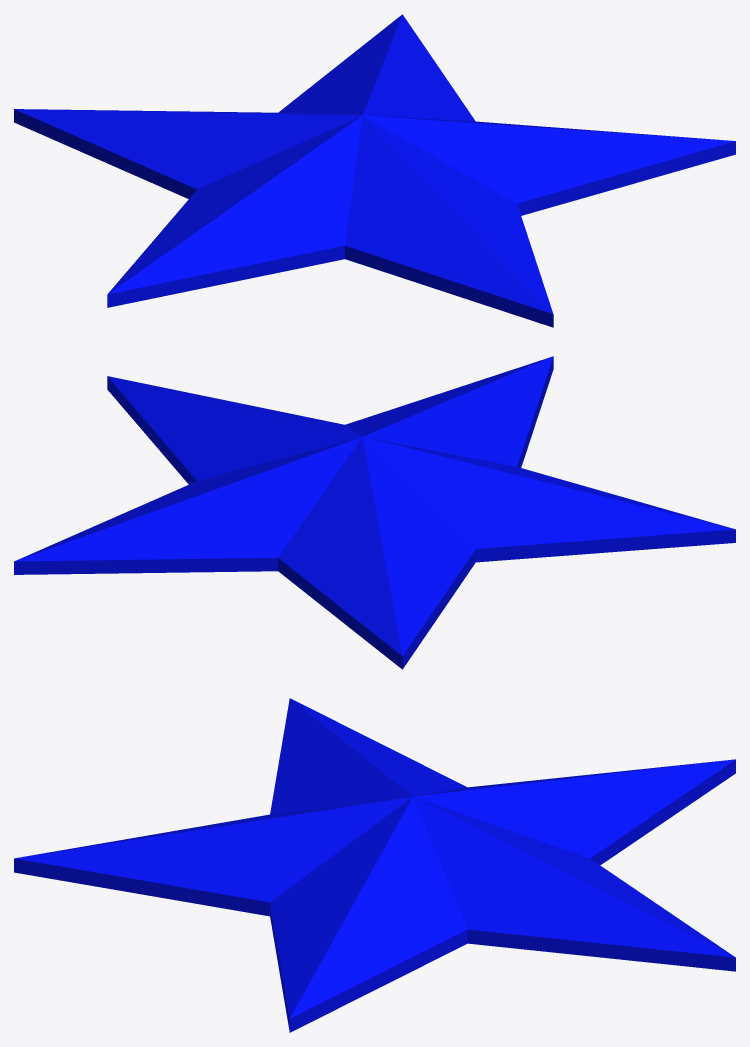
Rendered from star_blue.glb.
3 renders of one model, top to bottom at view 1: azimuth 30°, elevation 25°; view 2: azimuth 150°, elevation 25°; view 3: azimuth 270°, elevation 25°, orthographic. The views are drawn at different scales.
Visible parts, largest first — view 1: Star; view 2: Star; view 3: Star.
Part boxes in pixels (x1,y1,x2,y2): Star: (14,14,735,327); Star: (14,356,735,669); Star: (14,698,735,1032).
Size of the model in its own units: 4.58 by 0.917 by 4.35.
